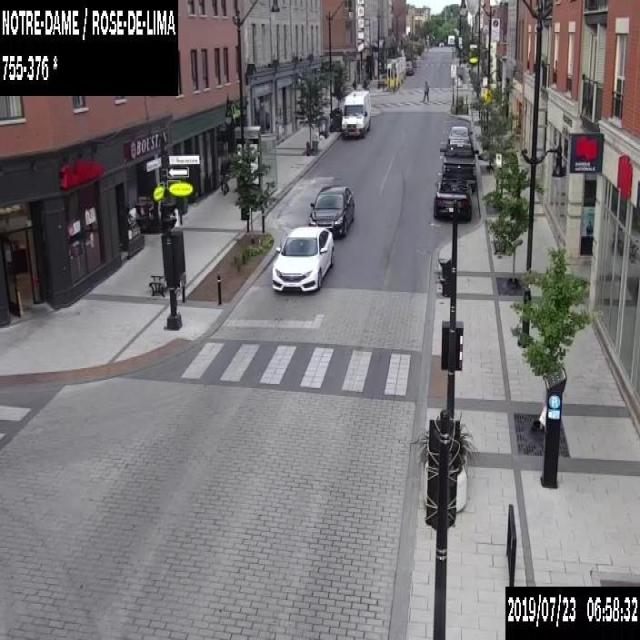pedestrian: (422, 80, 428, 102)
vehicle: (271, 225, 333, 293), (307, 184, 353, 237), (439, 139, 478, 192), (432, 180, 472, 220), (341, 89, 370, 137), (447, 125, 472, 142), (406, 60, 412, 74), (438, 41, 443, 44)
